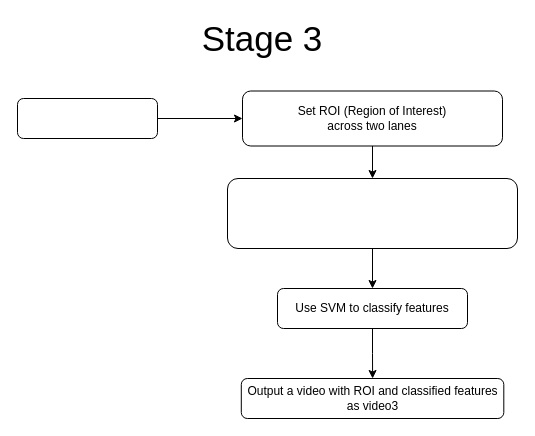
This 535x436 diagram has some shape labels left out. The shapes that lost their labels are listed below. From the top down, each one's centre as x and y in pixels, then its label:
At (87,118): "Input video 2".
At (372,213): "Get HOG(Histogram of Oriented Gradients) features".
